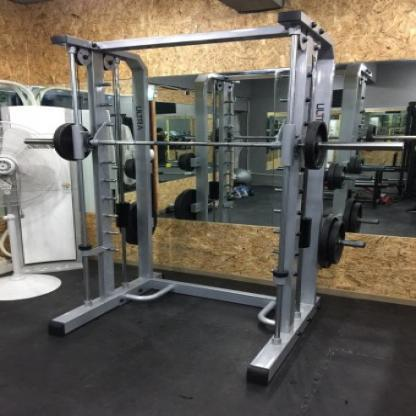smith machine: (48, 9, 337, 388)
